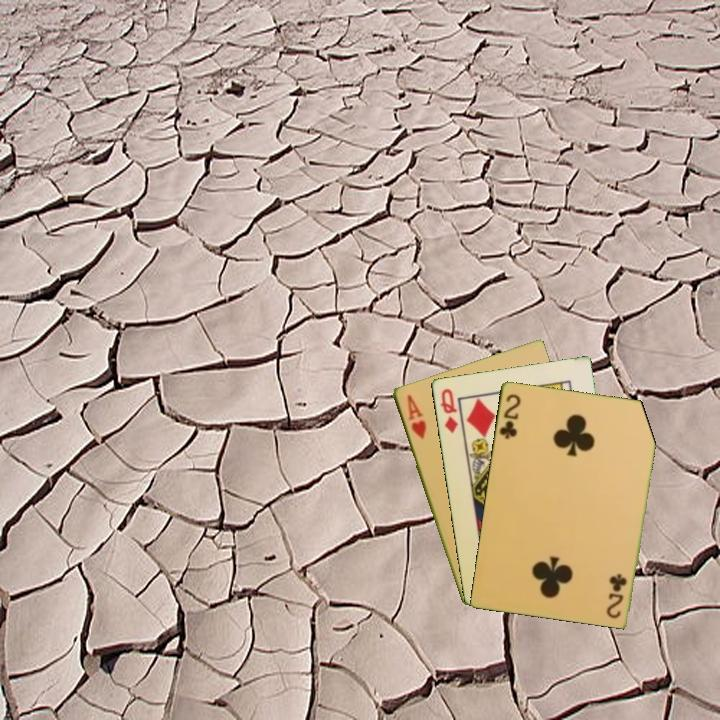2c: (495, 390, 523, 442), (604, 570, 629, 621)
Ah: (403, 391, 429, 442)
Qd: (437, 385, 461, 436)
